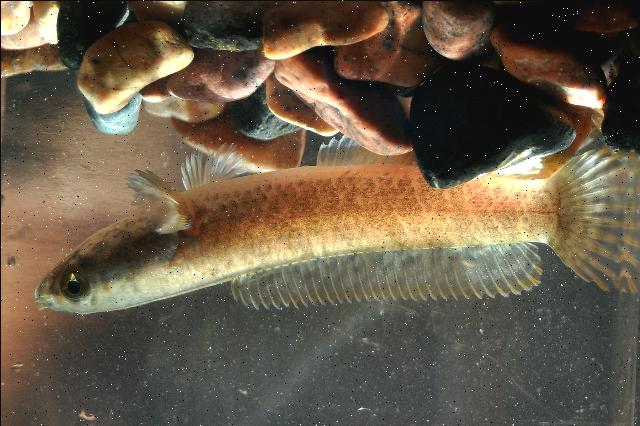Mulut: (28, 238, 84, 318)
Sirip Anal: (302, 133, 540, 185)
Sirip Dada: (114, 161, 198, 243), (178, 134, 252, 190)
Sirip Ekor: (544, 131, 638, 313)
Sirip Punggung: (212, 241, 554, 306)
